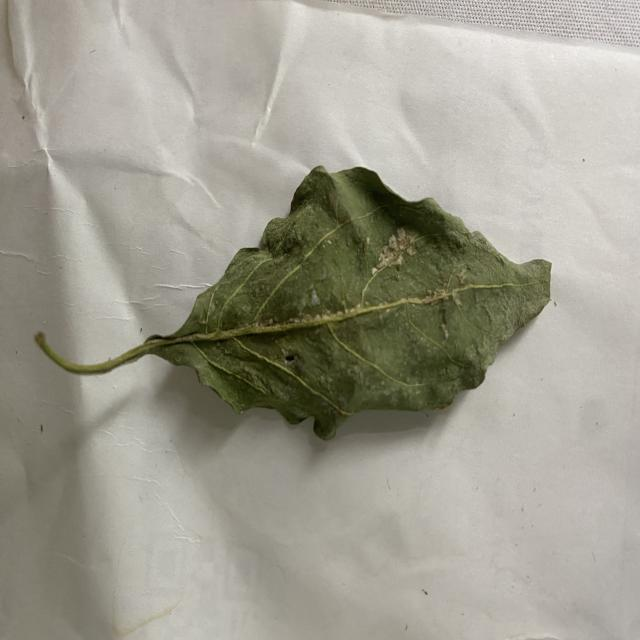Leaf: (154, 164, 553, 444)
